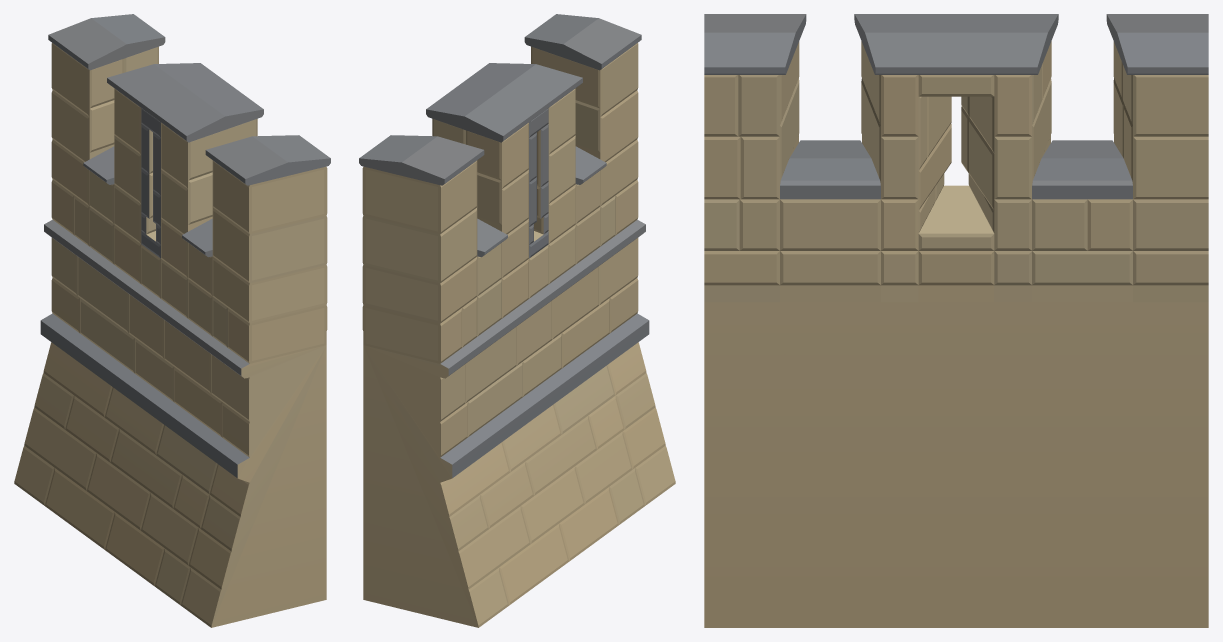
The picture shows the model from 3 angles, left to right: view 1: azimuth 30°, elevation 25°; view 2: azimuth 150°, elevation 25°; view 3: azimuth 270°, elevation 25°; orthographic projection. The views are drawn at different scales.
Visible parts, largest first — view 1: Mesh_Limestone, Mesh_Granite; view 2: Mesh_Limestone, Mesh_Granite; view 3: Mesh_Limestone, Mesh_Granite.
Boxes of the visible parts, bbox=[...] form: Mesh_Limestone: bbox=[14, 43, 327, 627]; Mesh_Granite: bbox=[40, 14, 330, 477]; Mesh_Limestone: bbox=[362, 43, 675, 627]; Mesh_Granite: bbox=[359, 14, 649, 477]; Mesh_Limestone: bbox=[704, 41, 1208, 627]; Mesh_Granite: bbox=[704, 14, 1208, 199].
Bounding box in the file's own units: 1.4 × 5 × 4.
